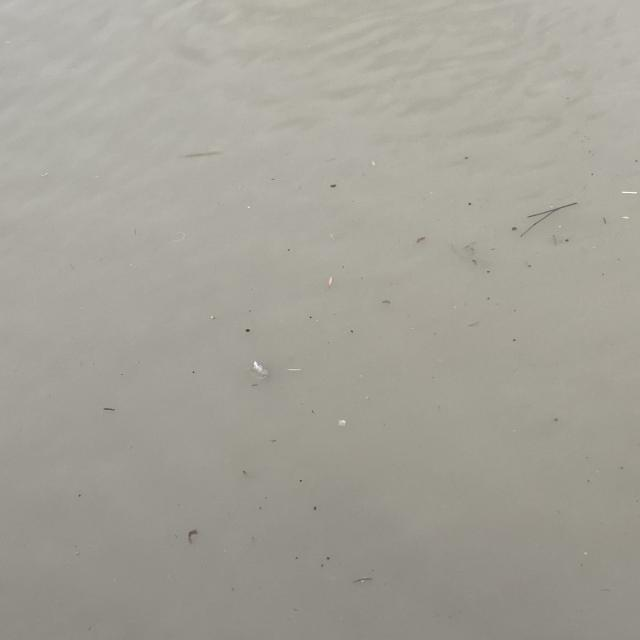Organic Debris: (516, 197, 580, 242), (178, 523, 204, 550), (167, 152, 229, 160), (619, 185, 640, 200), (324, 271, 338, 292), (410, 233, 431, 247), (378, 296, 395, 308)
Plastic: (248, 360, 272, 384), (336, 418, 348, 428)
